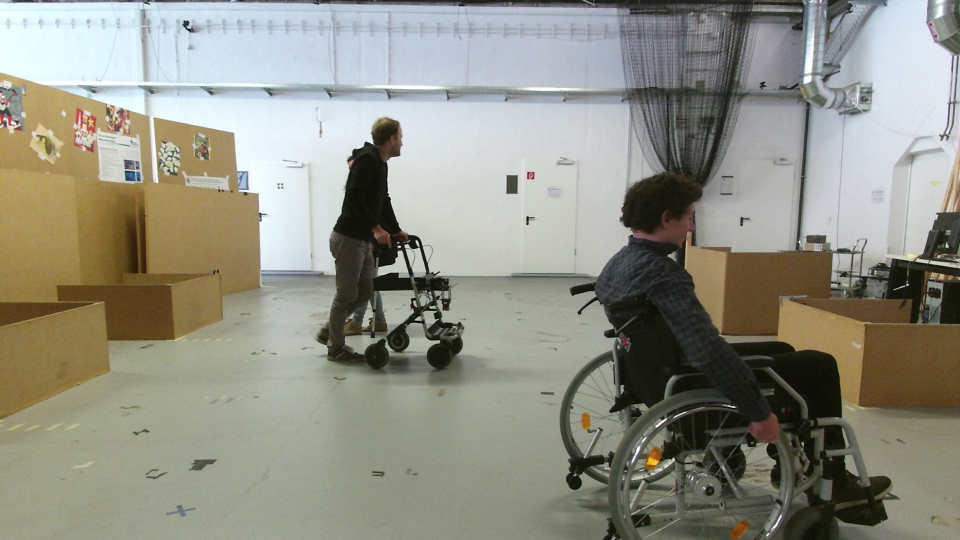wheelchair: (548, 165, 895, 540)
